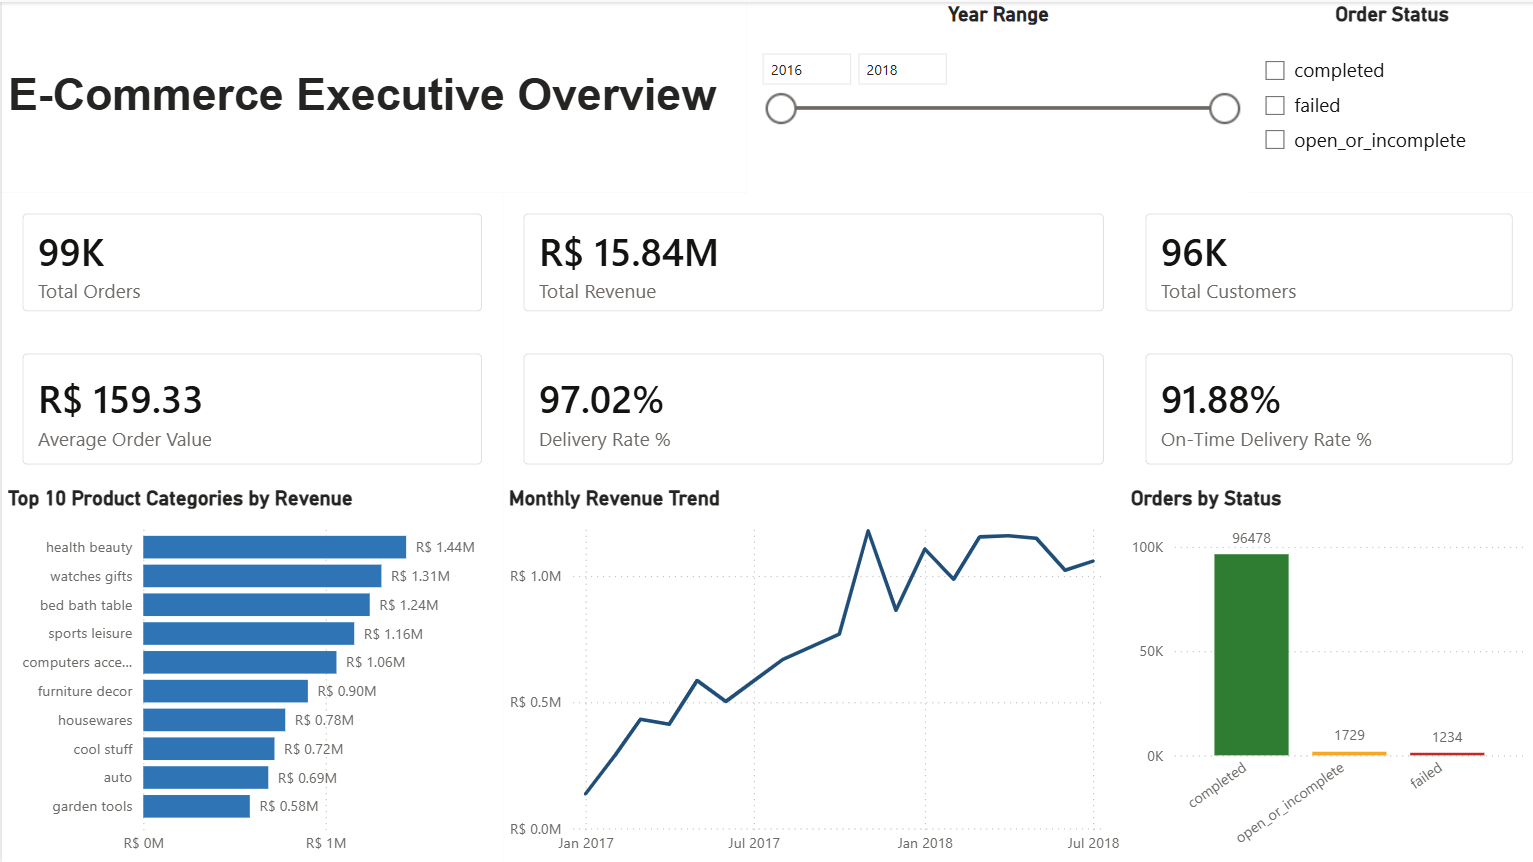

This screenshot's page, from the dashboard's own definition file:
{"tool":"powerbi","page":{"name":"Executive Overview","canvas":[1280,720],"ordinal":0},"visuals":[{"type":"textbox","box":[0,0,622.3,159.2],"z":0},{"type":"cardVisual","fields":{"Data":["KPI_Measures.Total Orders"]},"box":[0,159.2,418.5,117],"z":1000},{"type":"cardVisual","fields":{"Data":["KPI_Measures.Total Revenue"]},"box":[418.5,159.2,519.8,117],"z":2000},{"type":"cardVisual","fields":{"Data":["KPI_Measures.Total Customers"]},"box":[938.3,159.2,341.3,117],"z":3000},{"type":"cardVisual","fields":{"Data":["KPI_Measures.Average Order Value"]},"box":[0,276.2,418.5,127.8],"z":4000},{"type":"cardVisual","fields":{"Data":["KPI_Measures.Delivery Rate %"]},"box":[418.5,276.2,519.8,127.8],"z":5000},{"type":"cardVisual","fields":{"Data":["KPI_Measures.On-Time Delivery Rate %"]},"box":[938.3,276.2,341.3,127.8],"z":6000},{"type":"lineChart","title":"Monthly Revenue Trend","fields":{"Y":["KPI_Measures.Total Revenue"],"Category":["dim_date.year_month"]},"box":[418.5,404,519.8,316],"z":7000},{"type":"clusteredColumnChart","title":"Orders by Status","fields":{"Category":["dim_order_status.status_group"],"Y":["KPI_Measures.Total Orders"]},"box":[938.3,404,341.3,316],"z":8000},{"type":"slicer","title":"Year Range","fields":{"Values":["dim_date.year"]},"box":[622.4,0,420.1,159.5],"z":9000},{"type":"slicer","title":"Order Status","fields":{"Values":["dim_order_status.status_group"]},"box":[1042,0,237.6,159.2],"z":10000},{"type":"clusteredBarChart","title":"Top 10 Product Categories by Revenue","fields":{"Category":["dim_product.product_category"],"Y":["KPI_Measures.Total Revenue"]},"box":[0,404,418.5,316],"z":11000}]}

Visuals, with their boxes in screenshot pixels (x1, y1, x2, y2), scaled from the page's 1280x720 canvas onto the 1533x862 screenshot:
textbox: 0:0:745:191
cardVisual - KPI_Measures.Total Orders: 0:191:501:331
cardVisual - KPI_Measures.Total Revenue: 501:191:1124:331
cardVisual - KPI_Measures.Total Customers: 1124:191:1532:331
cardVisual - KPI_Measures.Average Order Value: 0:331:501:484
cardVisual - KPI_Measures.Delivery Rate %: 501:331:1124:484
cardVisual - KPI_Measures.On-Time Delivery Rate %: 1124:331:1532:484
"Monthly Revenue Trend" lineChart: 501:484:1124:861
"Orders by Status" clusteredColumnChart: 1124:484:1532:861
"Year Range" slicer: 745:0:1249:191
"Order Status" slicer: 1248:0:1532:191
"Top 10 Product Categories by Revenue" clusteredBarChart: 0:484:501:861
